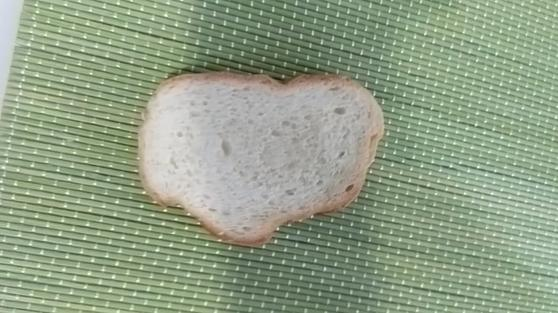white_bread: (140, 65, 390, 245)
